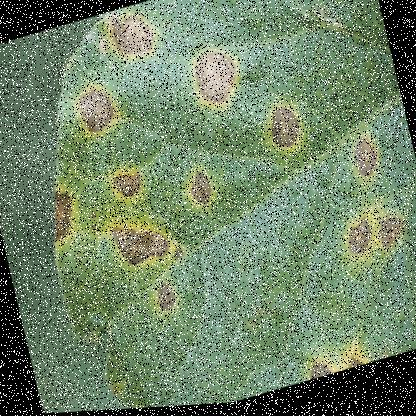AlternariaBrassicicola: (179, 38, 247, 119), (88, 1, 162, 74), (102, 207, 175, 278), (339, 211, 415, 270), (68, 76, 122, 138), (35, 180, 81, 248), (260, 100, 304, 157), (342, 131, 384, 188), (106, 159, 148, 206), (178, 170, 216, 216), (150, 278, 180, 318), (298, 359, 334, 385)
